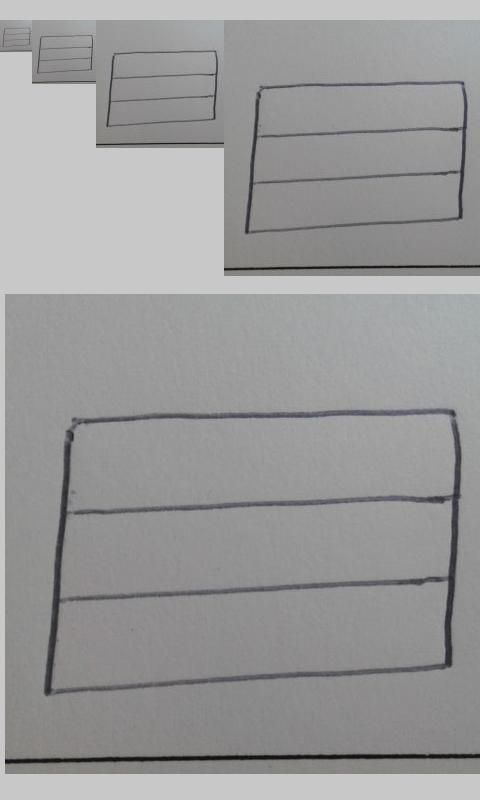list_view: (40, 407, 463, 696), (244, 81, 469, 235), (106, 49, 219, 127), (37, 34, 93, 74), (2, 27, 31, 48)
